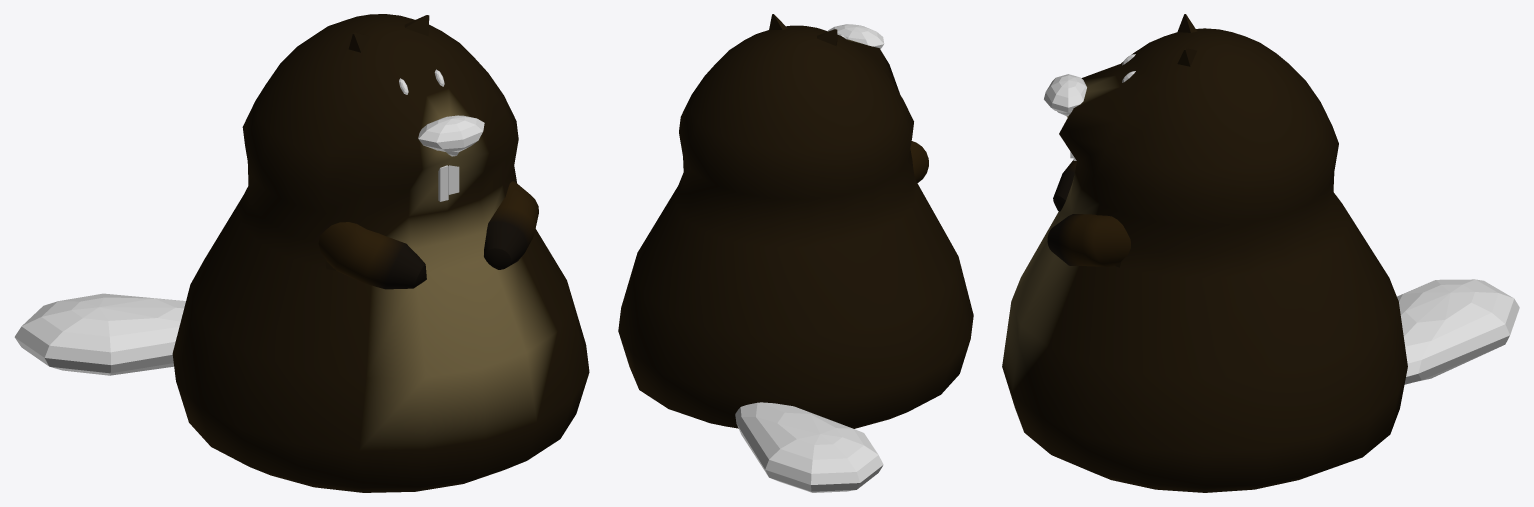
The model's file is beaver.fbx.
The picture shows the model from 3 angles, left to right: view 1: azimuth 30°, elevation 25°; view 2: azimuth 150°, elevation 25°; view 3: azimuth 270°, elevation 25°; orthographic projection. The views are drawn at different scales.
Parts seen in each view (by area): view 1: body, tail, armL, armR, nose; view 2: body, tail, nose, armL; view 3: body, tail, armR, nose, armL.
Part boxes in pixels (box(x1,y1,x2,y2)): body: box(172, 14, 589, 492); tail: box(14, 293, 185, 375); armL: box(318, 222, 426, 289); armR: box(484, 181, 538, 269); nose: box(418, 115, 484, 156); body: box(618, 14, 973, 428); tail: box(735, 402, 883, 492); nose: box(828, 24, 884, 49); armL: box(910, 141, 928, 183); body: box(1002, 14, 1407, 492); tail: box(1397, 279, 1519, 384); armR: box(1047, 214, 1130, 266); nose: box(1044, 74, 1086, 116); armL: box(1053, 160, 1076, 211).
Bounding box in the file's own units: 2.02 × 1.95 × 2.33.
